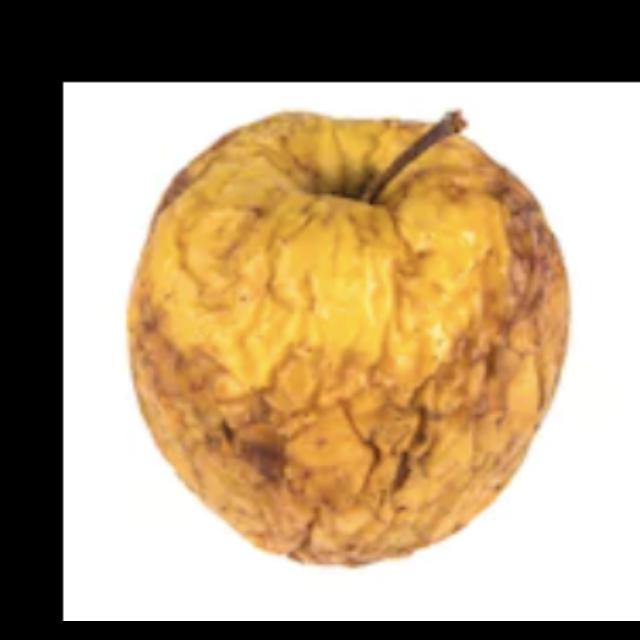Apel Tidak Segar: (75, 96, 588, 576)
